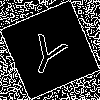Y: (25, 25, 73, 79)
